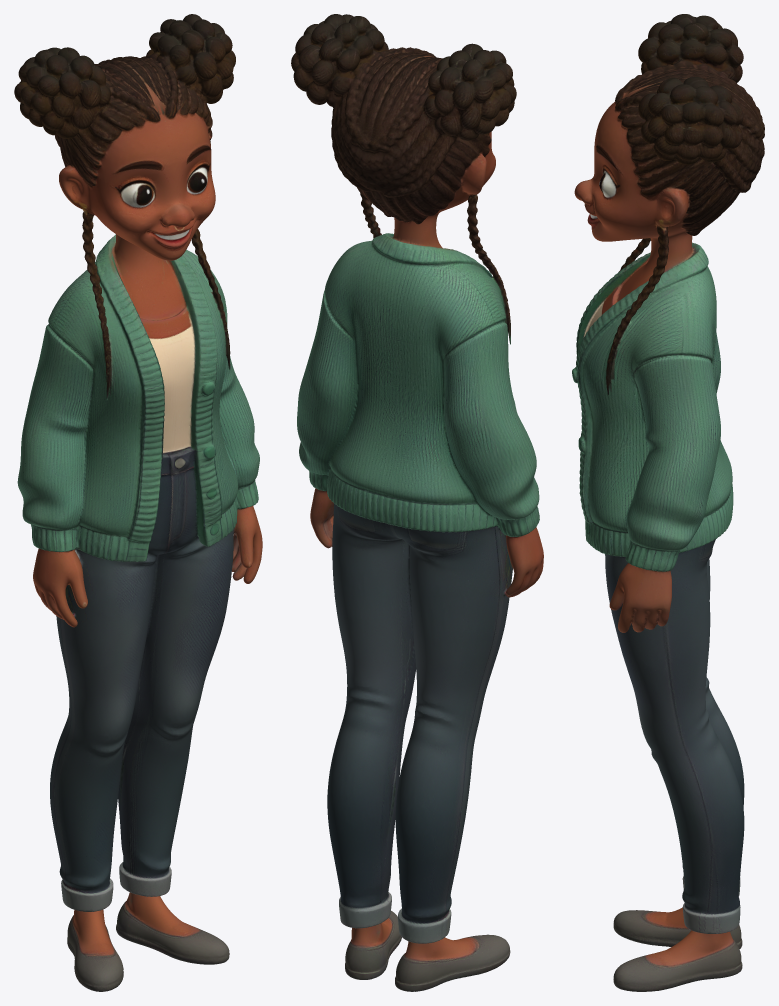
The model's file is Paula_NPC_Meshy.glb.
3 views of the same model, side by side, from view 1: azimuth 30°, elevation 25°; view 2: azimuth 150°, elevation 25°; view 3: azimuth 270°, elevation 25° (orthographic). The views are drawn at different scales.
Parts seen in each view (by area): view 1: Mesh_0; view 2: Mesh_0; view 3: Mesh_0.
Part boxes in pixels (<box>): Mesh_0: <box>14,14,262,991</box>; Mesh_0: <box>291,14,543,991</box>; Mesh_0: <box>572,14,764,991</box>.
Bounding box in the file's own units: 0.4445 × 1.7 × 0.3266.
Materials: 1 (1 with a texture image).
